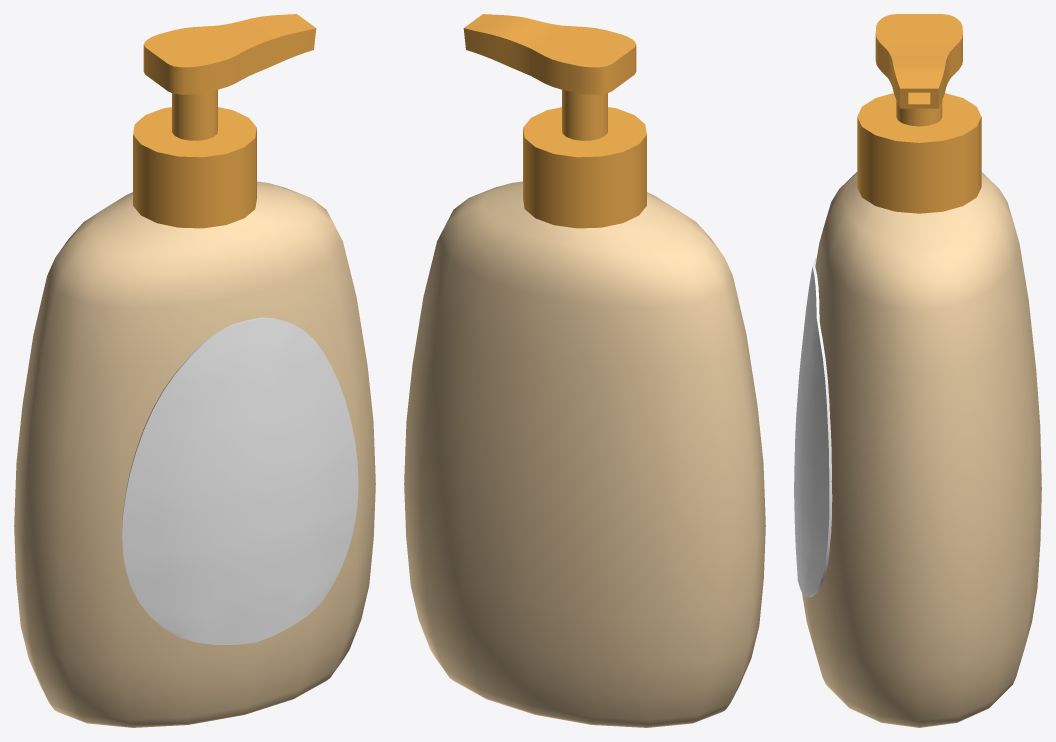
File: lotion_bottle.gltf
3 views of the same model, side by side, from view 1: azimuth 30°, elevation 25°; view 2: azimuth 150°, elevation 25°; view 3: azimuth 270°, elevation 25° (orthographic).
Parts seen in each view (by area): view 1: Circle.2606; view 2: Circle.2606; view 3: Circle.2606.
Boxes of the visible parts, x1,y1,x2,y2 form: Circle.2606: (14, 14, 375, 727); Circle.2606: (404, 14, 765, 727); Circle.2606: (794, 14, 1041, 727).
Size of the model in its own units: 1.27 by 2.27 by 0.8072.
Materials: 1 (1 with a texture image).
